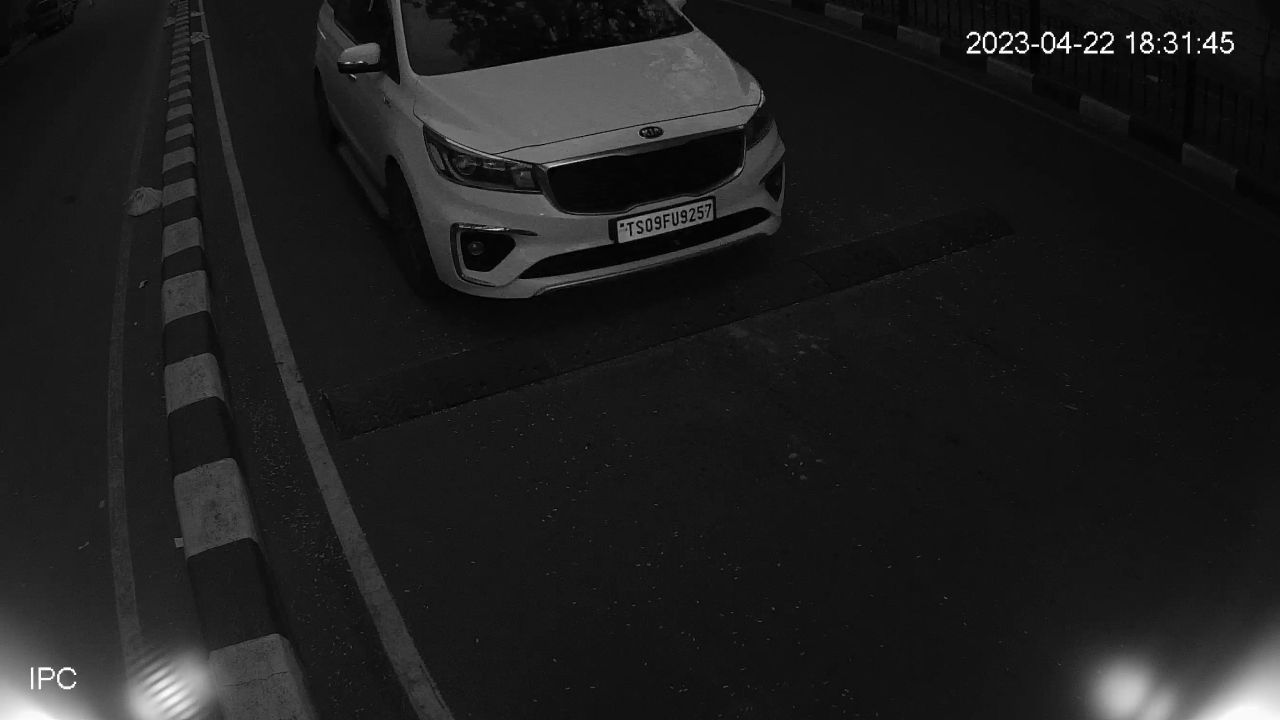license_plate: (609, 193, 719, 254)
